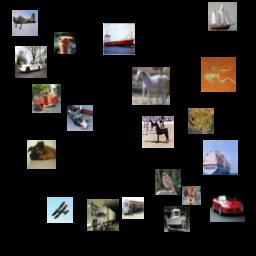airplane: (47, 197, 73, 223), (12, 10, 38, 36)
automobile: (210, 187, 245, 222), (15, 46, 47, 78)
bird: (155, 169, 181, 195), (54, 32, 76, 54)
cat: (67, 105, 93, 131)
dog: (27, 140, 56, 169), (182, 186, 201, 205)
frog: (201, 57, 236, 92), (188, 108, 214, 134)
ship: (203, 140, 238, 175), (103, 23, 135, 55), (208, 2, 237, 31), (164, 206, 190, 232)
truck: (87, 199, 119, 231), (32, 84, 61, 113), (122, 197, 144, 219)
